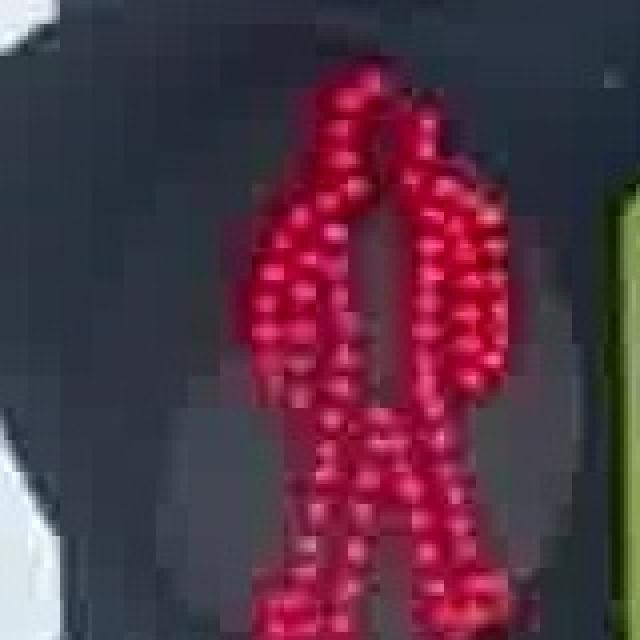red_light: (228, 44, 532, 620)
